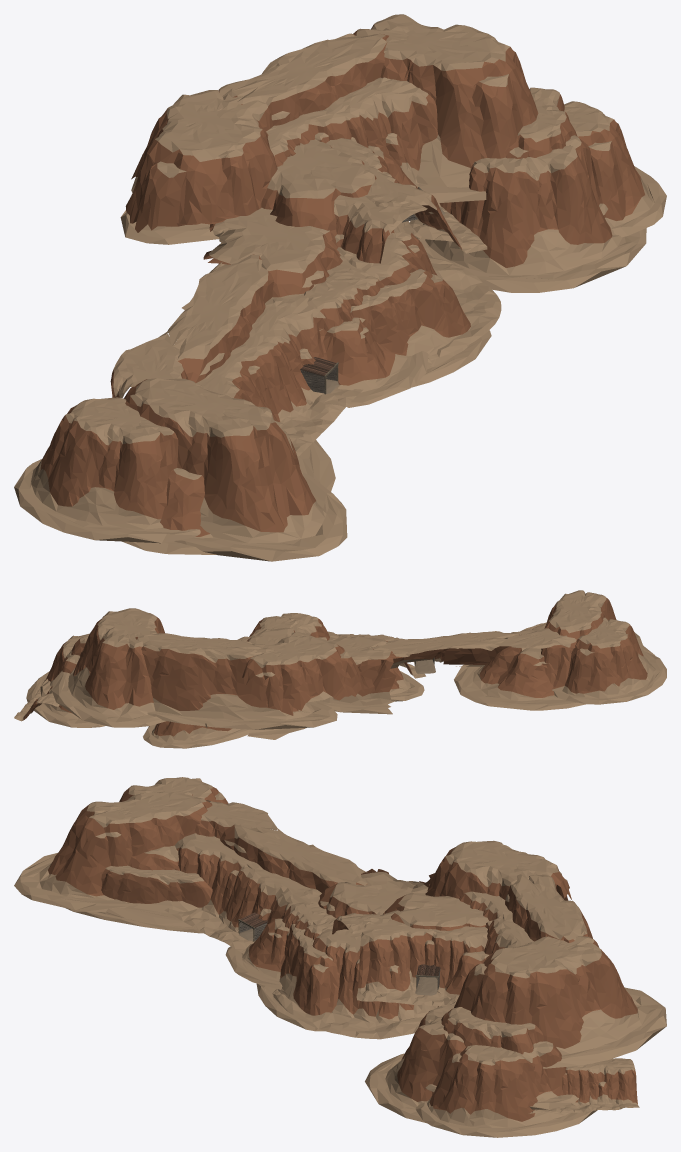
The model's file is Env_Drywater_Cliffside.fbx.
3 renders of one model, top to bottom at view 1: azimuth 30°, elevation 25°; view 2: azimuth 150°, elevation 25°; view 3: azimuth 270°, elevation 25°, orthographic. The views are drawn at different scales.
Parts seen in each view (by area): view 1: SM_Env_Cliff_Cap_01 (×15), SM_Env_Cliff_Straight_02 (×2), Env_Cliff_Mine_01, SM_Env_Cliff_Curve_01 (×2), Env_Cliff_Mine_02; view 2: SM_Env_Cliff_Cap_01 (×14), SM_Env_Cliff_Straight_02 (×2), Env_Cliff_Mine_02, SM_Env_Cliff_Curve_01, SM_Env_Road_Straight_01, Env_Cliff_Mine_01; view 3: SM_Env_Cliff_Cap_01 (×17), Env_Cliff_Mine_01, Env_Cliff_Mine_02, SM_Env_Cliff_Curve_01 (×2), SM_Env_Cliff_Straight_02 (×3).
Part boxes in pixels (left/top/right/bottom): SM_Env_Cliff_Cap_01 (×15): left=14, top=14, right=666, bottom=561; SM_Env_Cliff_Straight_02 (×2): left=266, top=77, right=437, bottom=263; Env_Cliff_Mine_01: left=196, top=293, right=363, bottom=456; SM_Env_Cliff_Curve_01 (×2): left=304, top=232, right=501, bottom=392; Env_Cliff_Mine_02: left=326, top=137, right=487, bottom=253; SM_Env_Cliff_Cap_01 (×14): left=26, top=590, right=666, bottom=748; SM_Env_Cliff_Straight_02 (×2): left=14, top=613, right=329, bottom=721; Env_Cliff_Mine_02: left=235, top=616, right=298, bottom=641; SM_Env_Cliff_Curve_01: left=336, top=634, right=425, bottom=678; SM_Env_Road_Straight_01: left=414, top=659, right=435, bottom=673; Env_Cliff_Mine_01: left=388, top=629, right=536, bottom=662; SM_Env_Cliff_Cap_01 (×17): left=14, top=777, right=666, bottom=1137; Env_Cliff_Mine_01: left=164, top=833, right=321, bottom=953; Env_Cliff_Mine_02: left=356, top=917, right=487, bottom=1006; SM_Env_Cliff_Curve_01 (×2): left=258, top=902, right=437, bottom=1039; SM_Env_Cliff_Straight_02 (×3): left=332, top=891, right=639, bottom=1113.
Bounding box in the file's own units: 20237 × 3882 × 18354.
